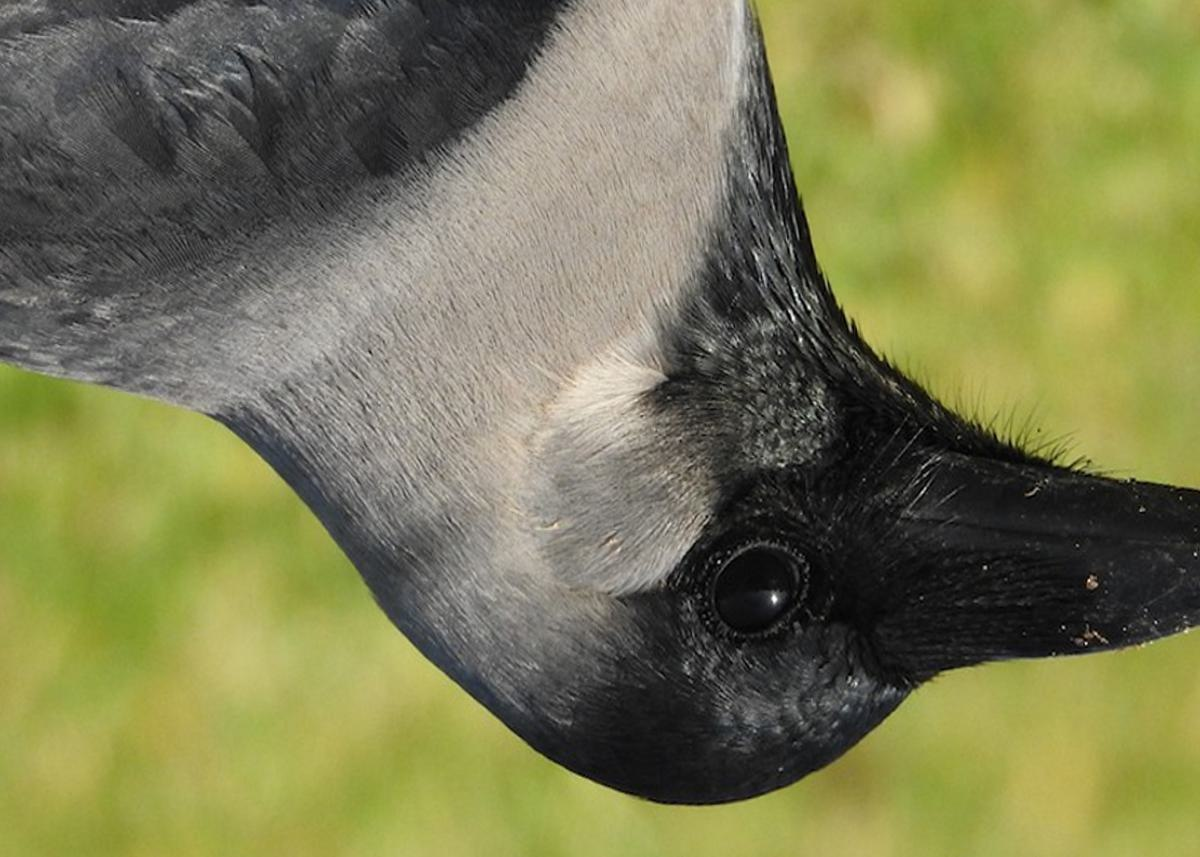crow: (1, 1, 1198, 806)
